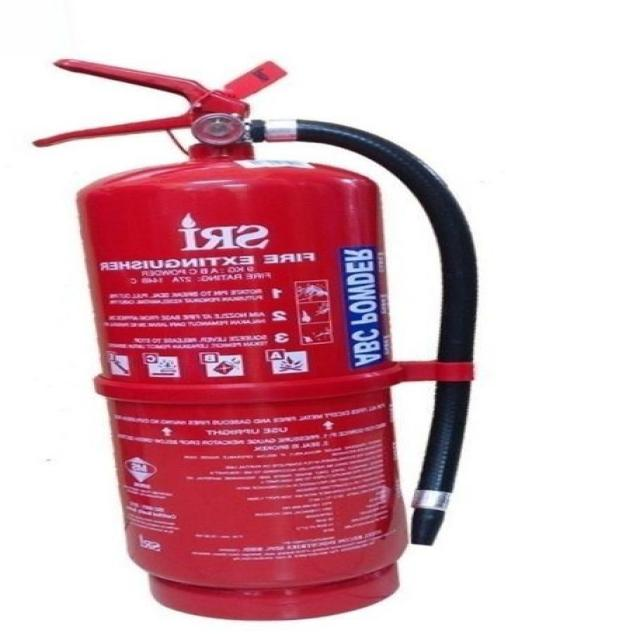fire_extinguisher: (13, 44, 487, 626)
